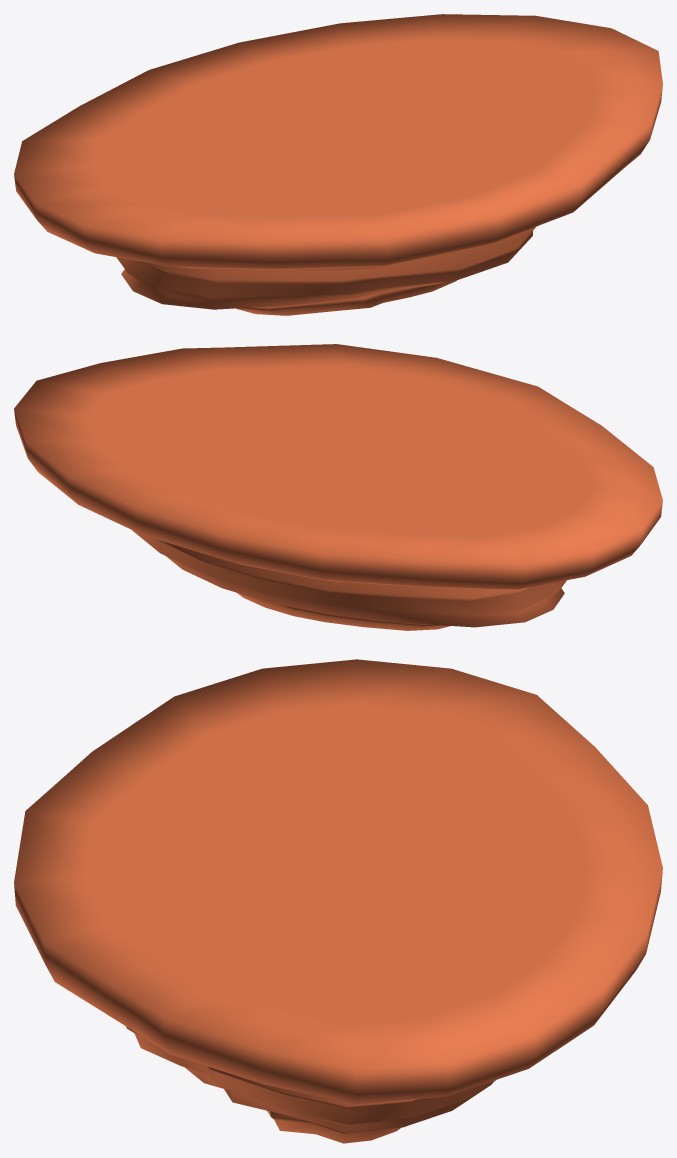
File: RoundPlatePlatform.fbx
3 views of the same model, one above another, from view 1: azimuth 30°, elevation 25°; view 2: azimuth 150°, elevation 25°; view 3: azimuth 270°, elevation 25° (orthographic). The views are drawn at different scales.
Visible parts, largest first — view 1: Cylinder; view 2: Cylinder; view 3: Cylinder.
Part boxes in pixels (<box>): Cylinder: <box>14,14,662,315</box>; Cylinder: <box>14,344,662,630</box>; Cylinder: <box>14,659,662,1143</box>.
Bounding box in the file's own units: 8.51 × 3 × 12.73.
